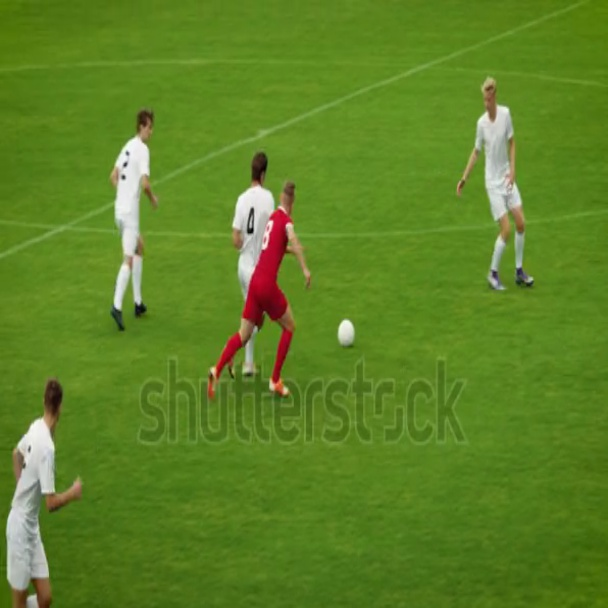ball: (339, 317, 356, 352)
